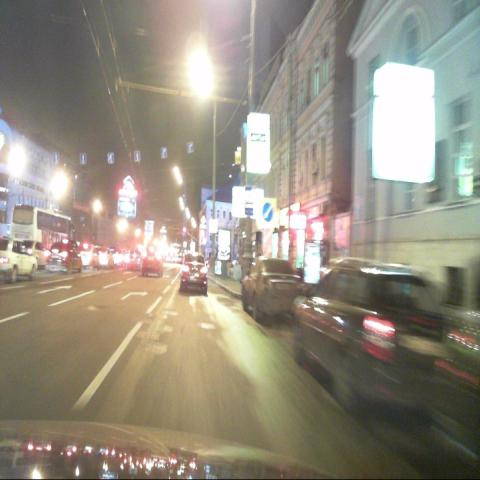7_2: (245, 186, 255, 216)
